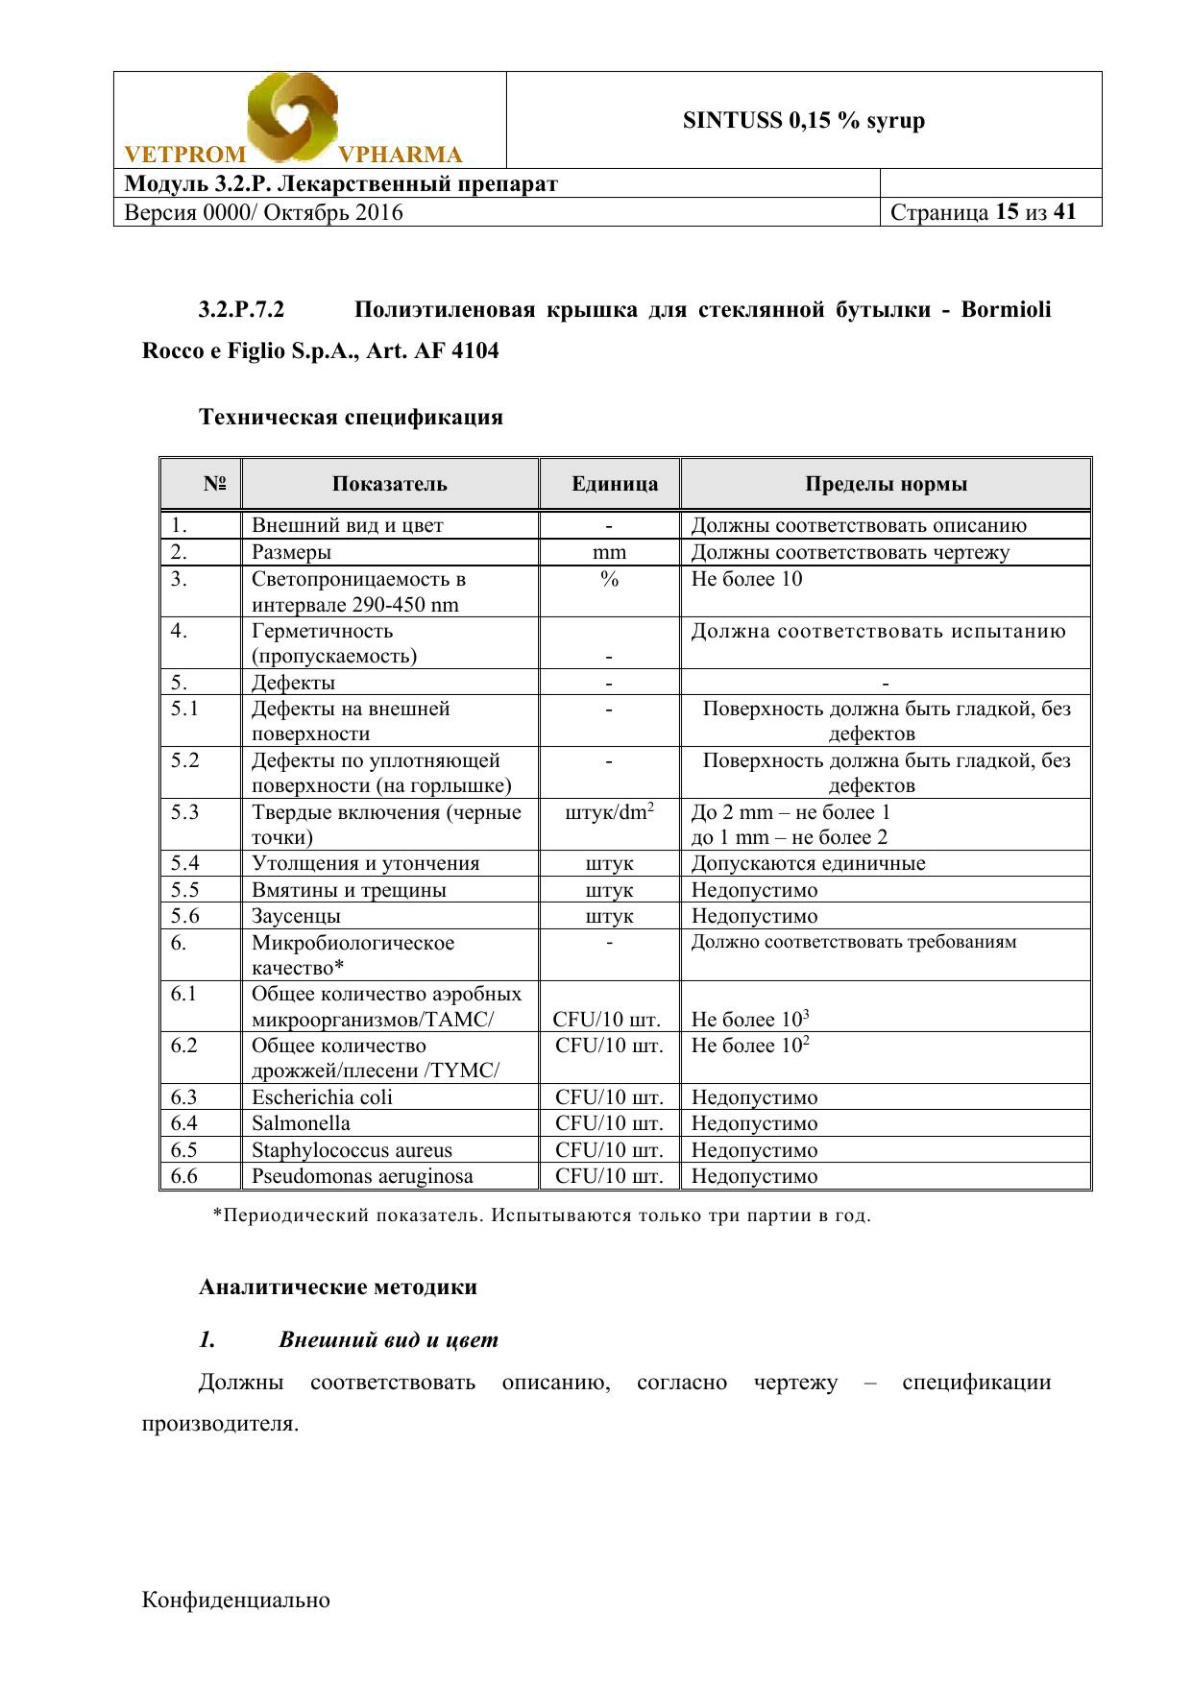full_lined: (156, 454, 1094, 1193)
merged_cells: (111, 68, 1106, 228)
